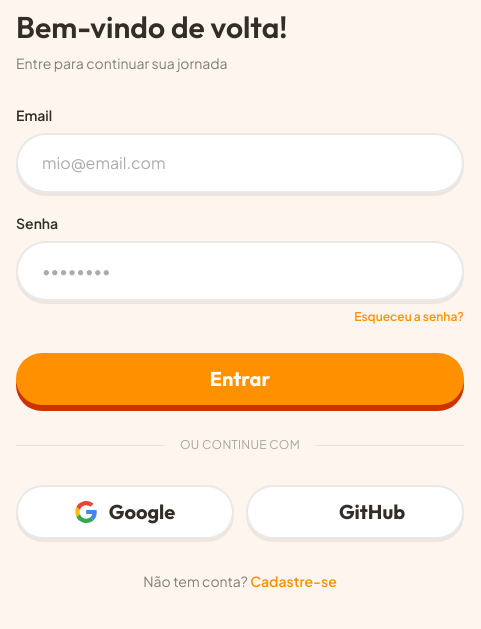
it: LoginForm › should display field errors returned by the action
Type "bad" into the field labelled "Email" at (240, 163), box [42,151,438,175]
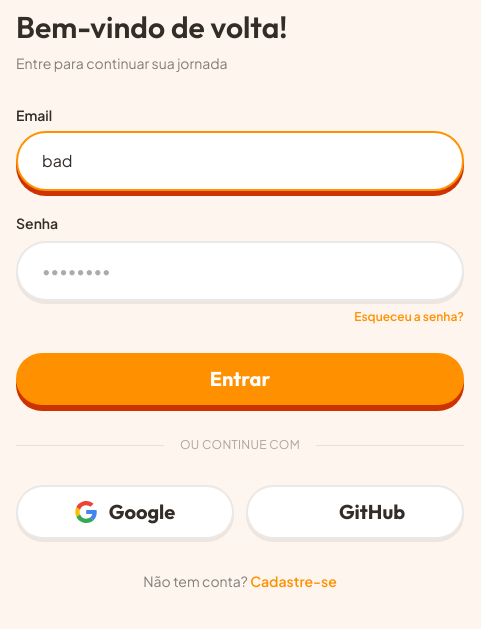
Type "x" into the password field labelled "Senha" at (224, 271), box [42,259,406,283]
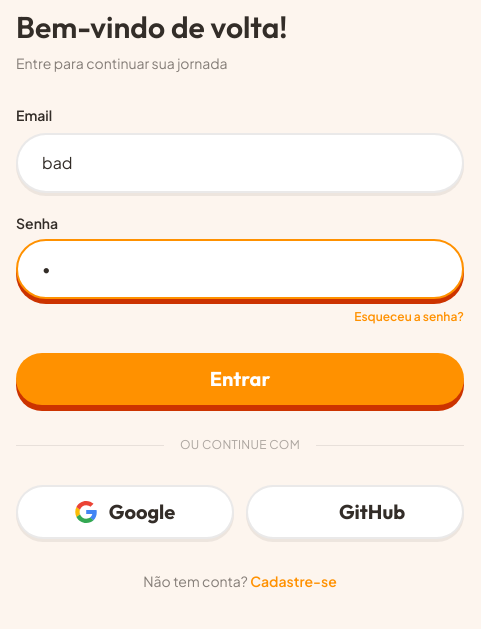
Click the button "Entrar" at (240, 379), box [16,353,464,405]
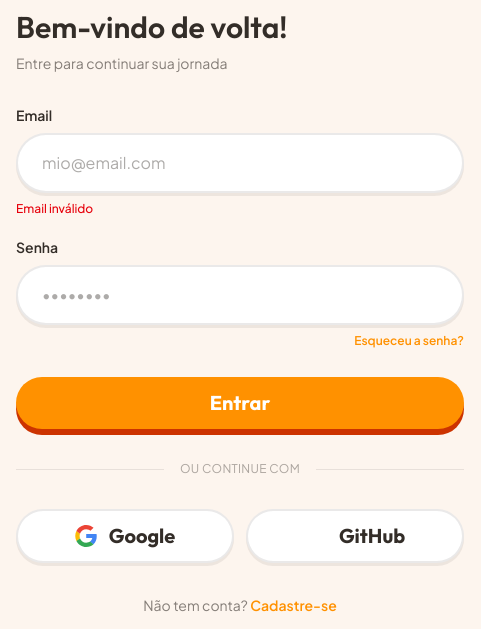
expect the text "Email inválido" is shown: met, box [16,201,93,216]
